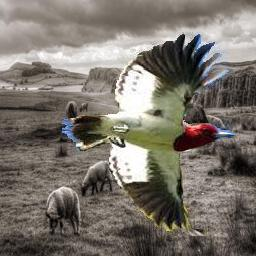Woodpecker: (62, 32, 234, 236)
